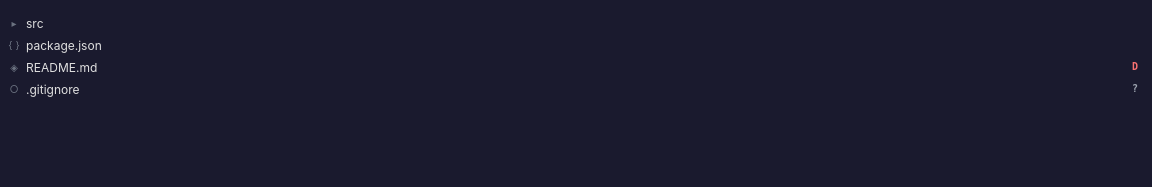
Test: FileTree › expands directory on click to show children
Click the text "src".
click(35, 23)  # box top-left (26, 16), bottom-right (44, 30)
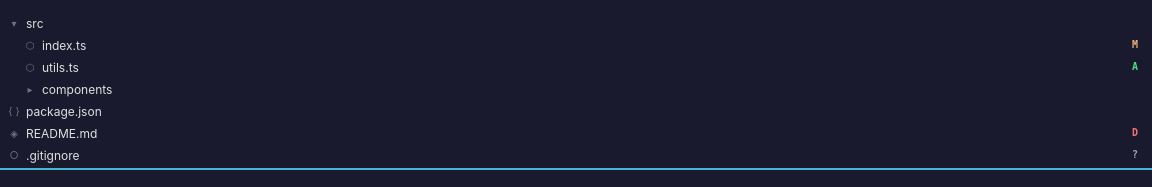
expect the text "index.ts" is shown: met, box top-left (42, 38), bottom-right (86, 52)
expect the text "utils.ts" is shown: met, box top-left (42, 60), bottom-right (79, 74)
expect the text "components" is shown: met, box top-left (42, 82), bottom-right (112, 96)
